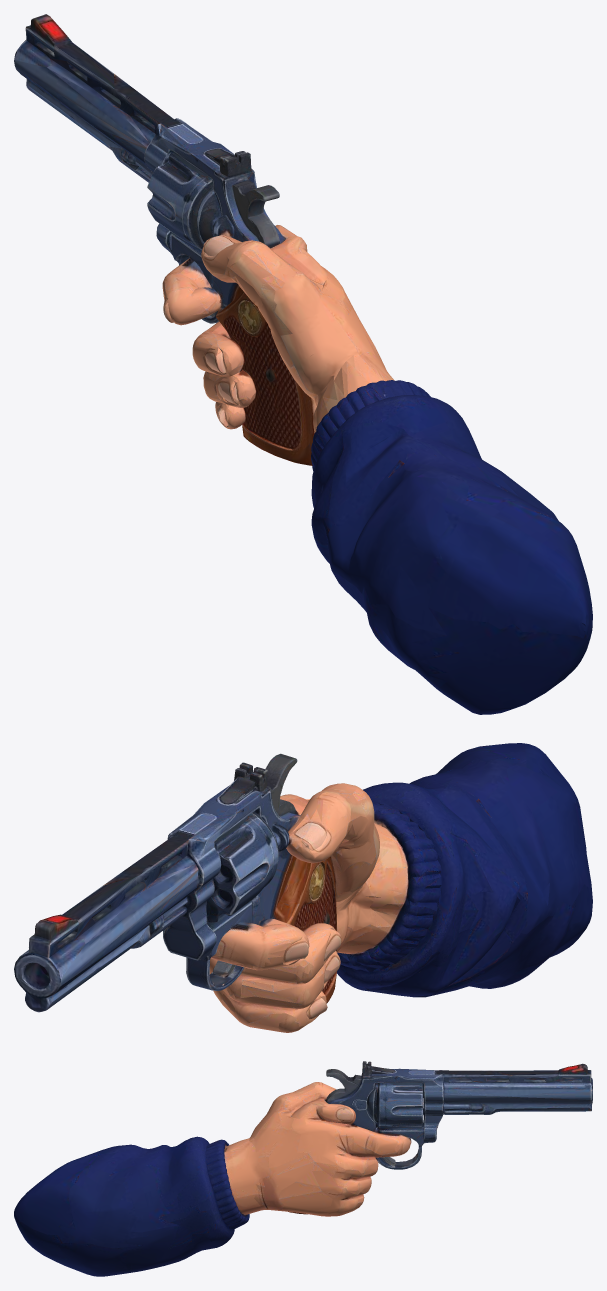
Rendered from viewmodel_revolver.glb.
3 views of the same model, one above another, from view 1: azimuth 30°, elevation 25°; view 2: azimuth 150°, elevation 25°; view 3: azimuth 270°, elevation 25° (orthographic). The views are drawn at different scales.
Visible parts, largest first — view 1: Mesh_0; view 2: Mesh_0; view 3: Mesh_0.
Part boxes in pixels (<box>): Mesh_0: <box>14,14,592,714</box>; Mesh_0: <box>14,743,592,1032</box>; Mesh_0: <box>14,1061,592,1276</box>.
Bounding box in the file's own units: 0.1187 × 0.2237 × 0.5706.
Materials: 1 (1 with a texture image).
